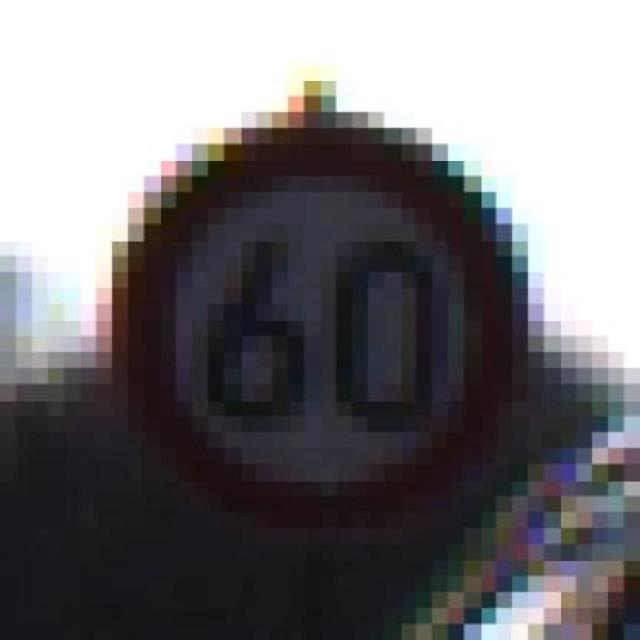forb_speed_over_60: (125, 125, 509, 524)
